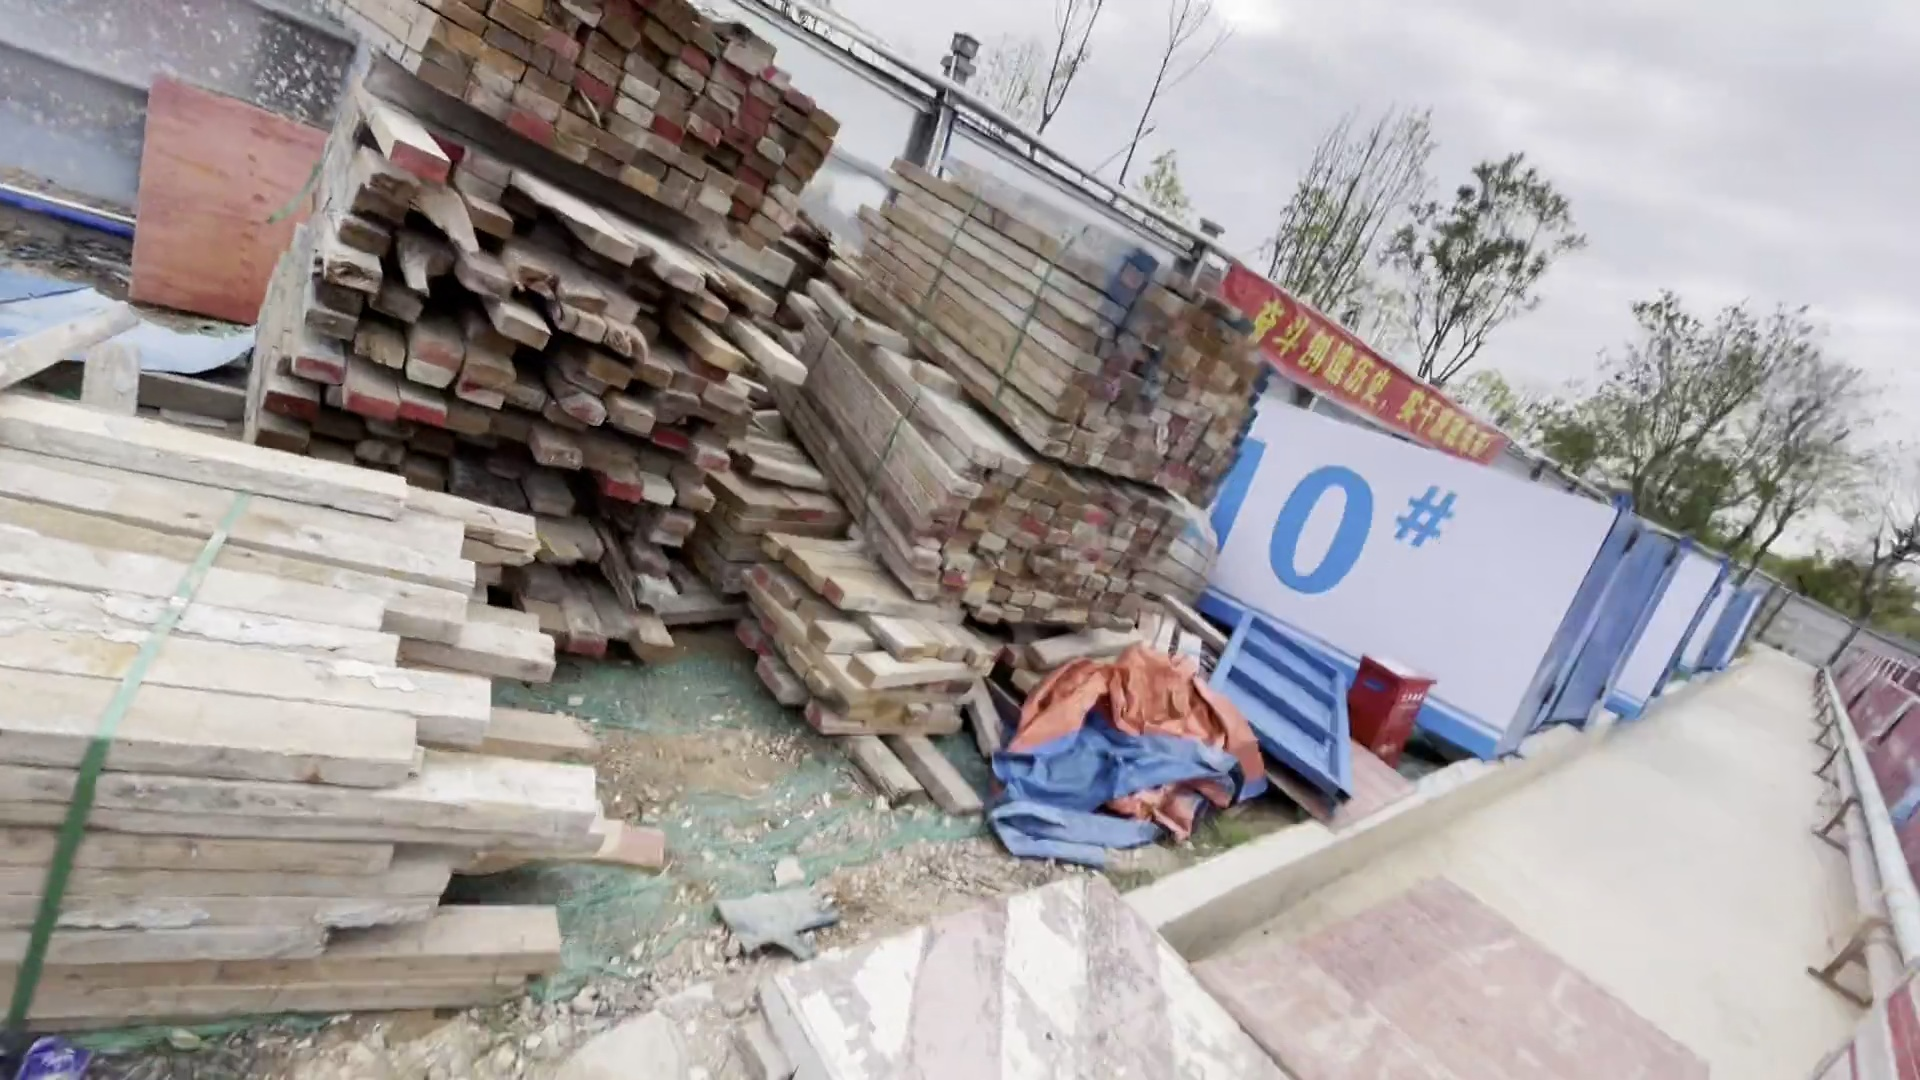slogan: (1241, 272, 1528, 459)
wood: (1, 386, 597, 1014), (309, 15, 804, 612), (808, 136, 1254, 596), (744, 492, 997, 740)
